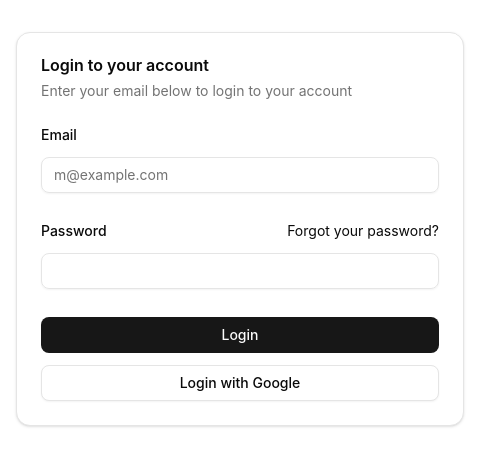
Test: ApplicationSession › shows a stable error and stays signed out after failed sign-in
The image size is (481, 460).
Type "user@example.com" into the field labelled "Email" at (240, 175), box [41,157,439,193]
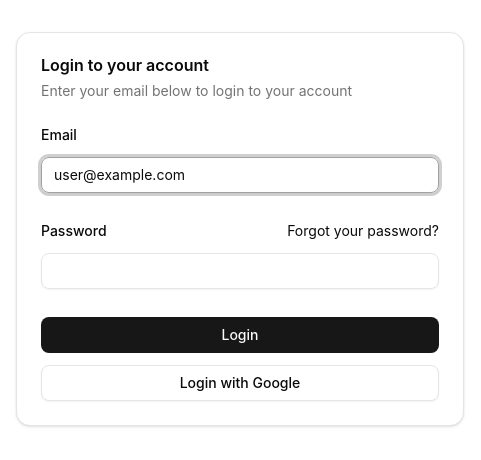
Type "wrong" into the password field labelled "Password" at (240, 271), box [41,253,439,289]
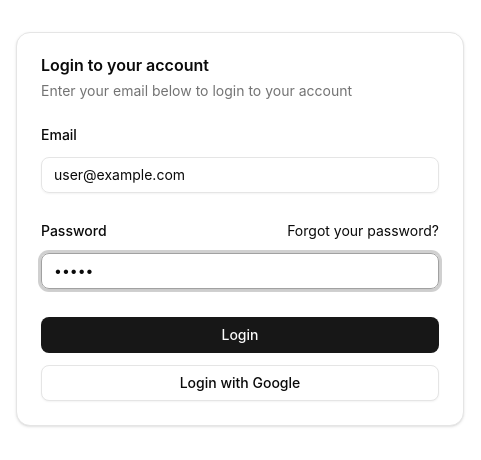
Click the button "Login" at (240, 335), box [41,317,439,353]
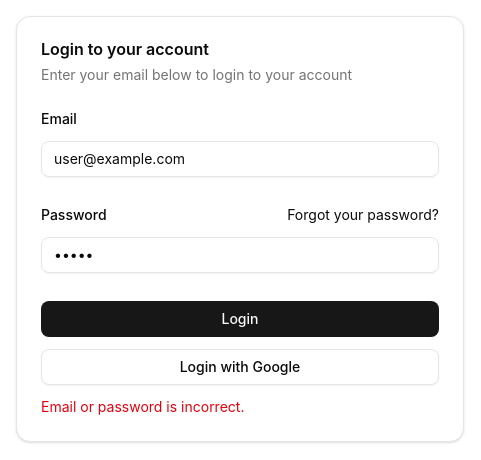
Expected: the message reads "Email or password is incorrect.", [41,398,244,415]
